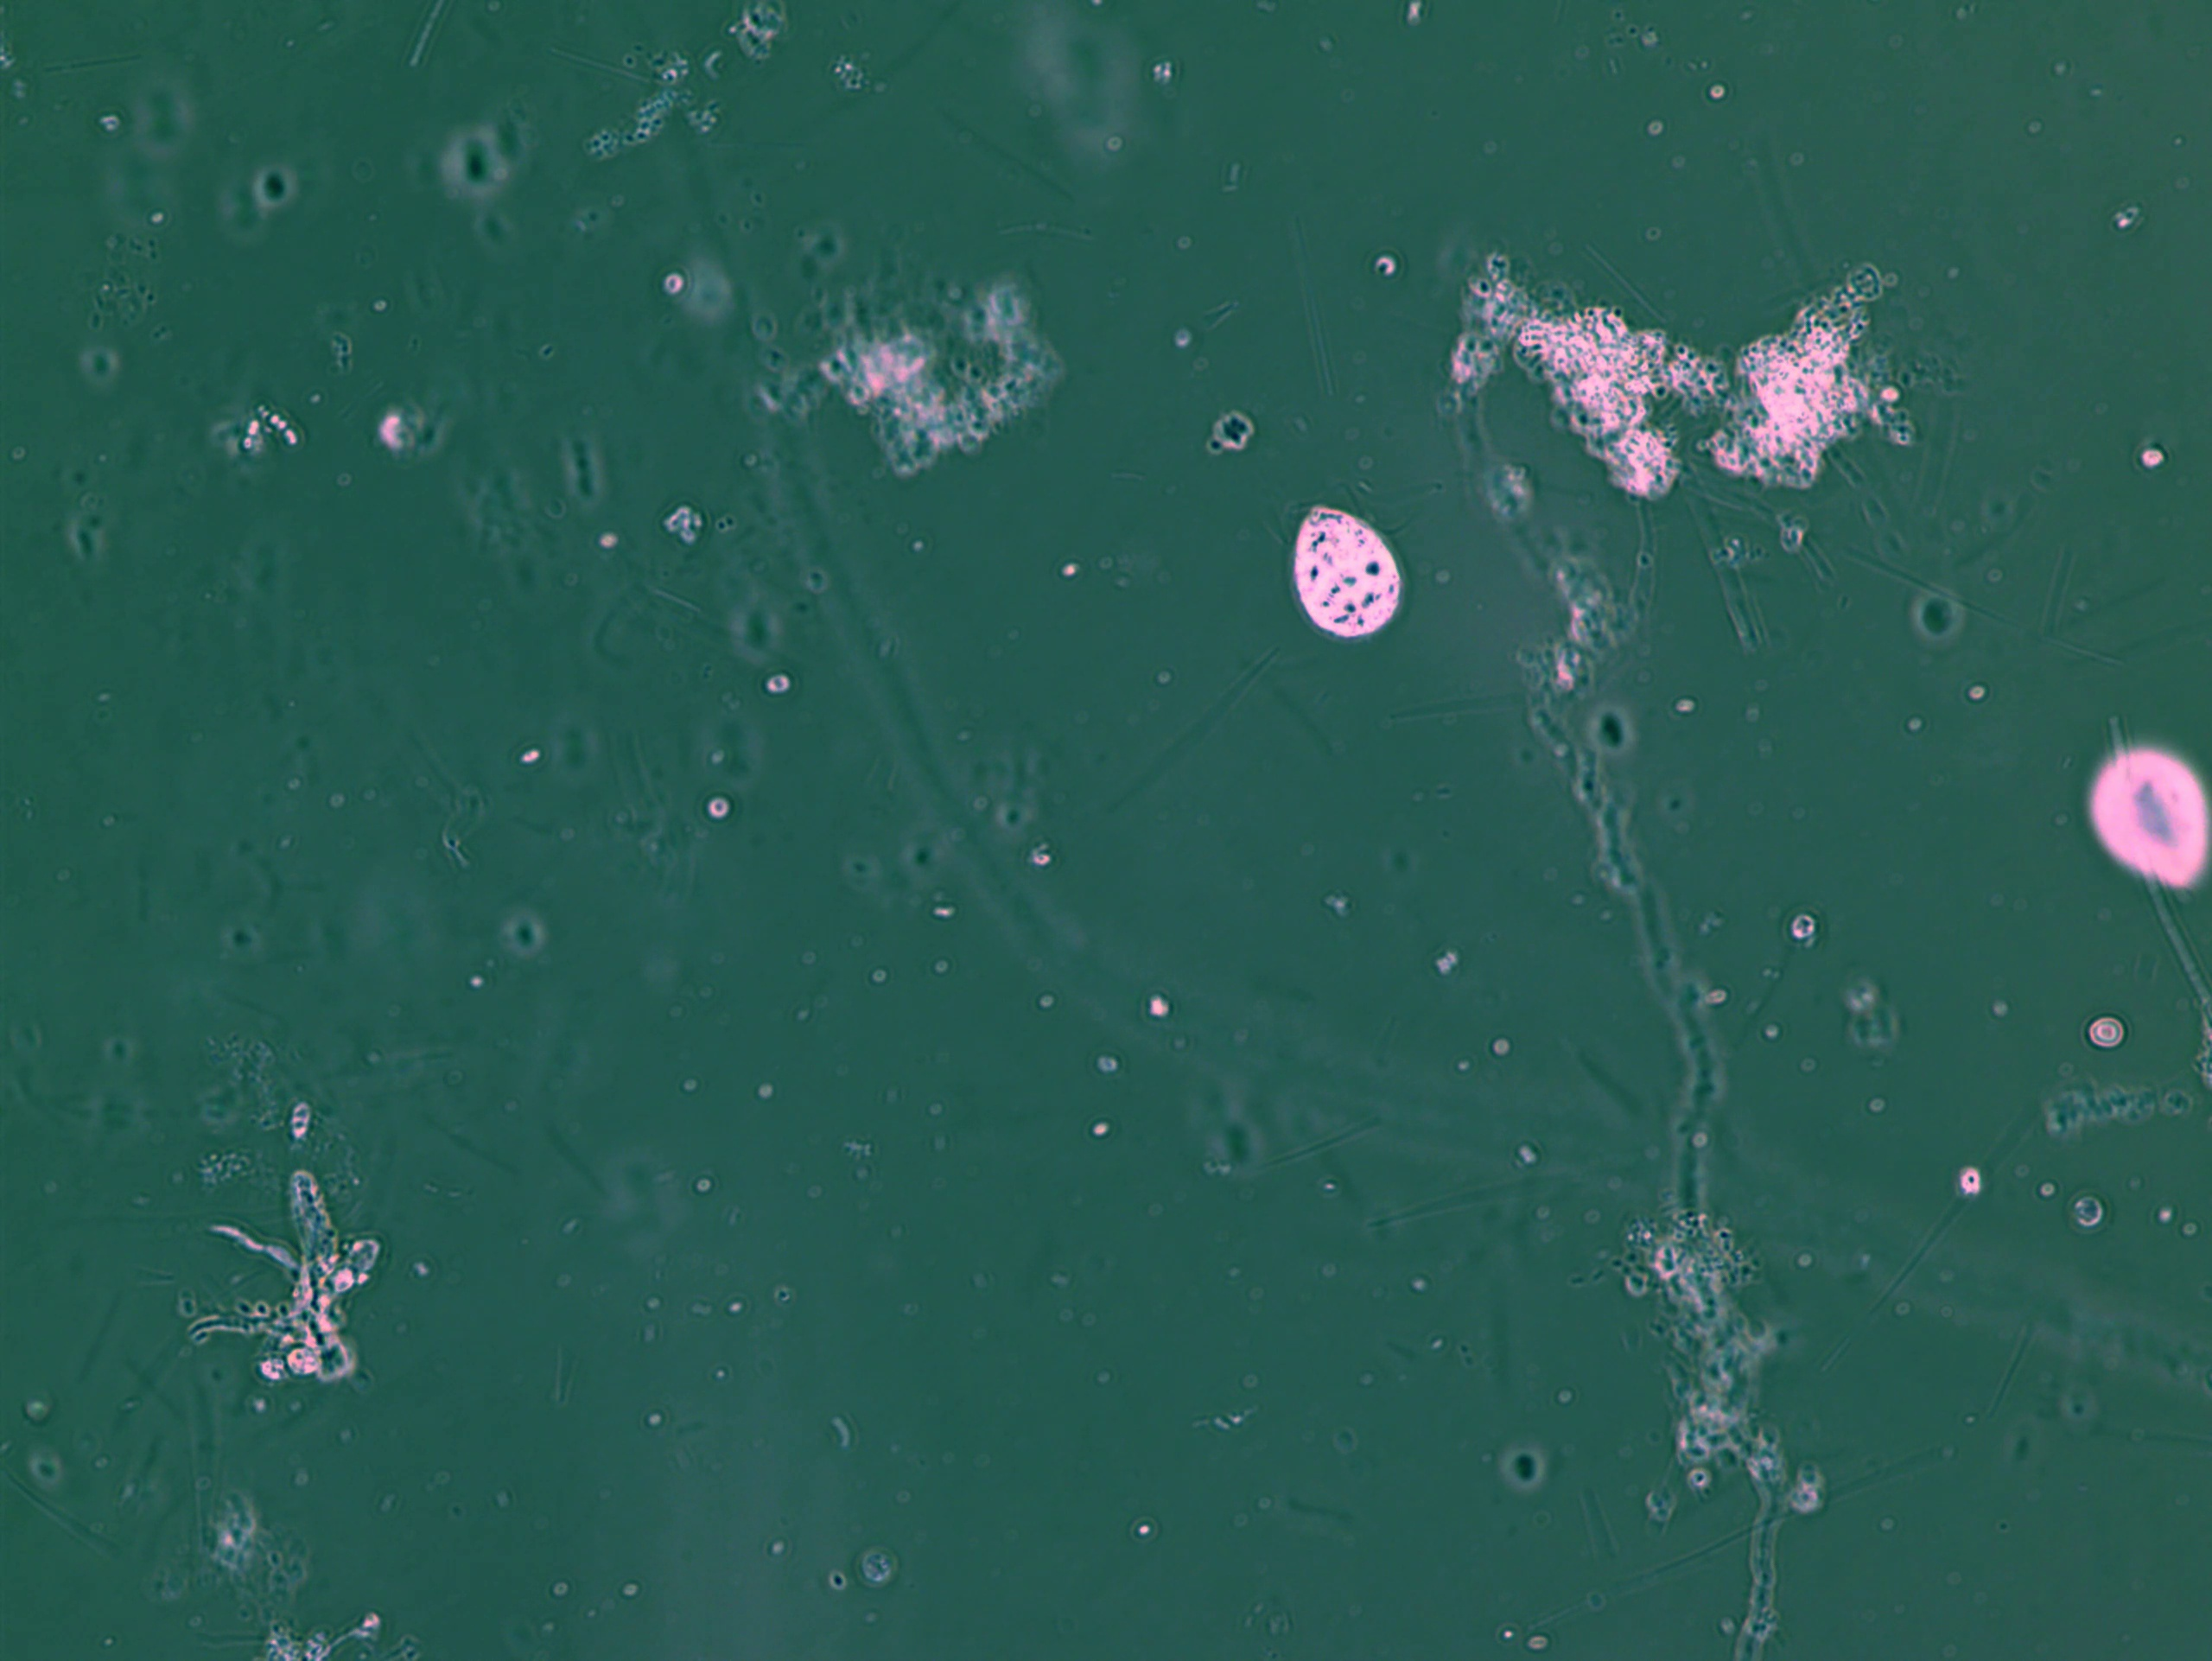depth:0: (1265, 476, 1425, 665)
